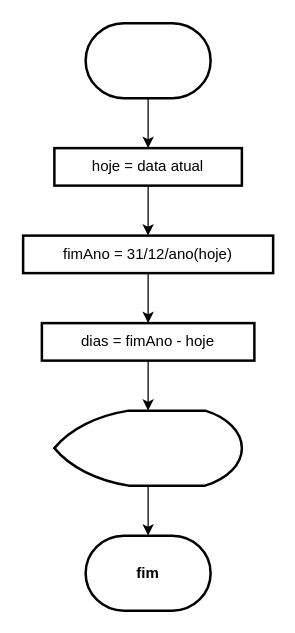
Some shapes in this 295 by 633 pixel diagram are drawn without their labels. Here are the shapes that lost their labels. From the top down, the box of each, then its label:
(84, 21, 211, 99): inicio
(52, 409, 242, 486): dias
